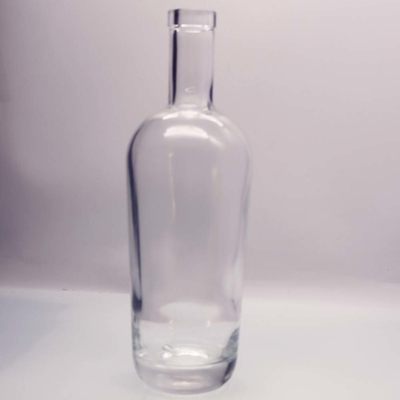glass_bottle: (119, 5, 257, 397)
